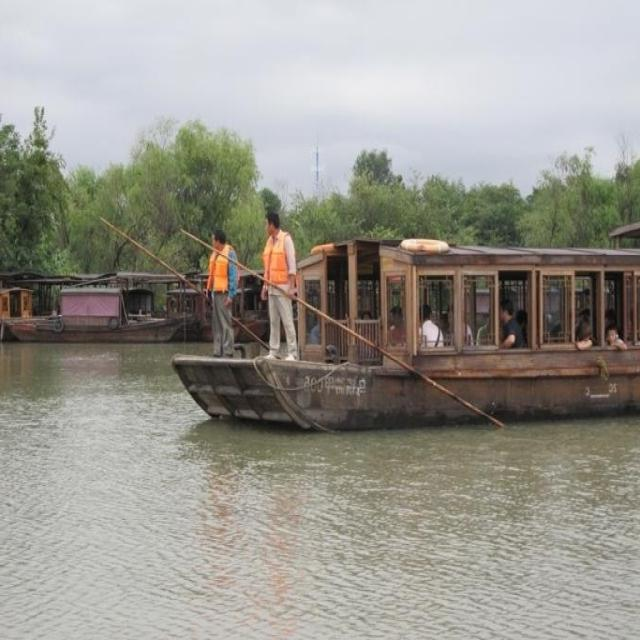boat: (165, 229, 635, 433)
